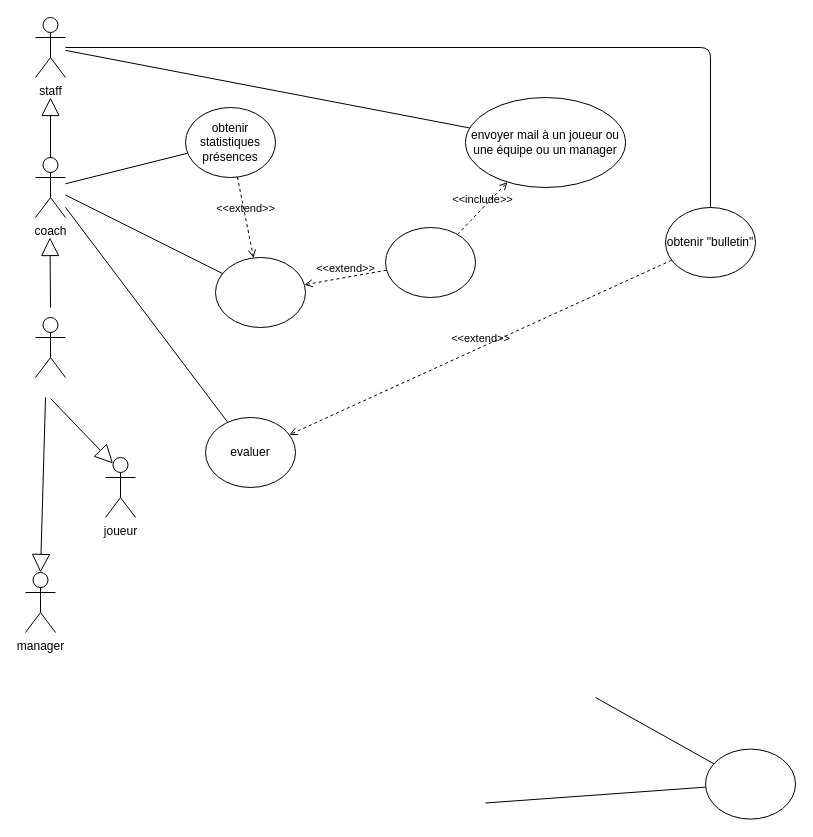
This 813x837 diagram has some shape labels left out. The shapes that lost their labels are listed below. From the top down, each one's centre as x and y in pixels, then its label:
At (x=430, y=262): "absence non justifiée".
At (x=260, y=292): "prendre les présences".
At (x=50, y=347): "membre".
At (x=750, y=783): "recevoir mail".
